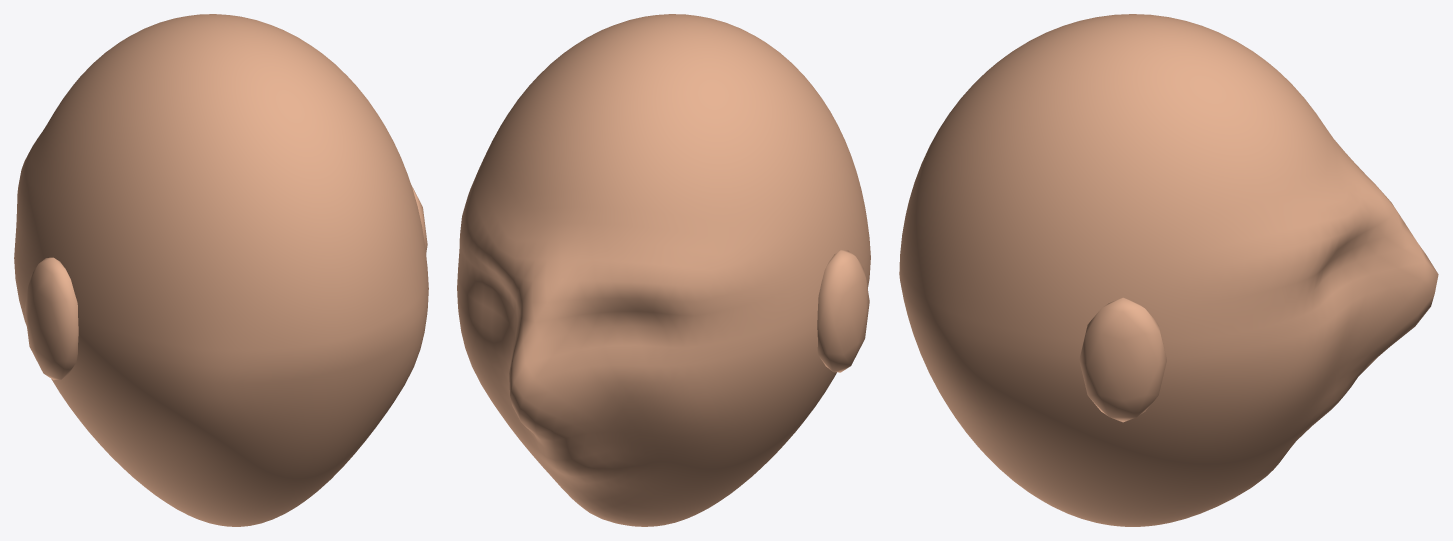
File: human_head.glb
3 renders of one model, left to right at view 1: azimuth 30°, elevation 25°; view 2: azimuth 150°, elevation 25°; view 3: azimuth 270°, elevation 25°, orthographic.
Parts seen in each view (by area): view 1: head, ear; view 2: head, ear; view 3: head, ear.001.
Part boxes in pixels (x1,y1,x2,y2): head: [14, 14, 428, 526]; ear: [24, 257, 78, 379]; head: [457, 14, 870, 526]; ear: [817, 250, 869, 372]; head: [899, 14, 1438, 526]; ear.001: [1079, 297, 1166, 422].
Bounding box in the file's own units: 0.2348 × 0.284 × 0.2819.
